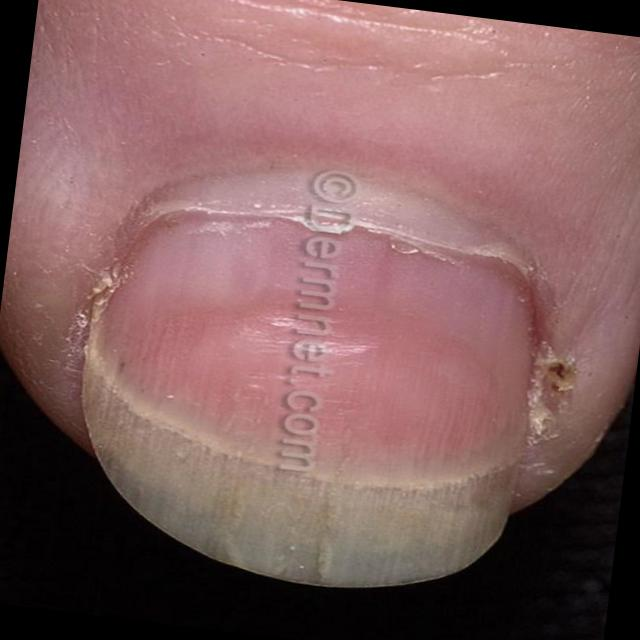Nail: (77, 213, 538, 587)
